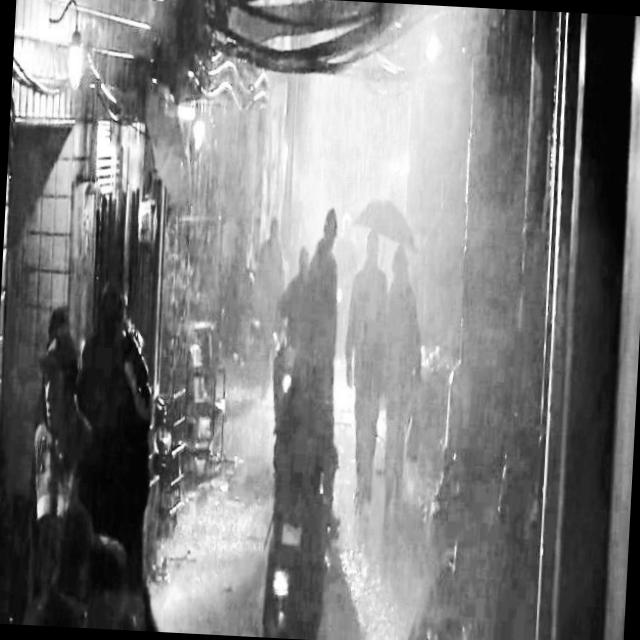Motorcycle: (248, 399, 348, 640)
